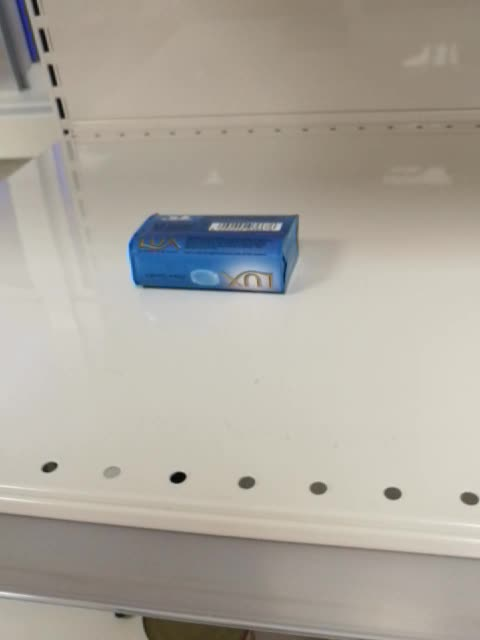soap: (124, 211, 301, 297)
